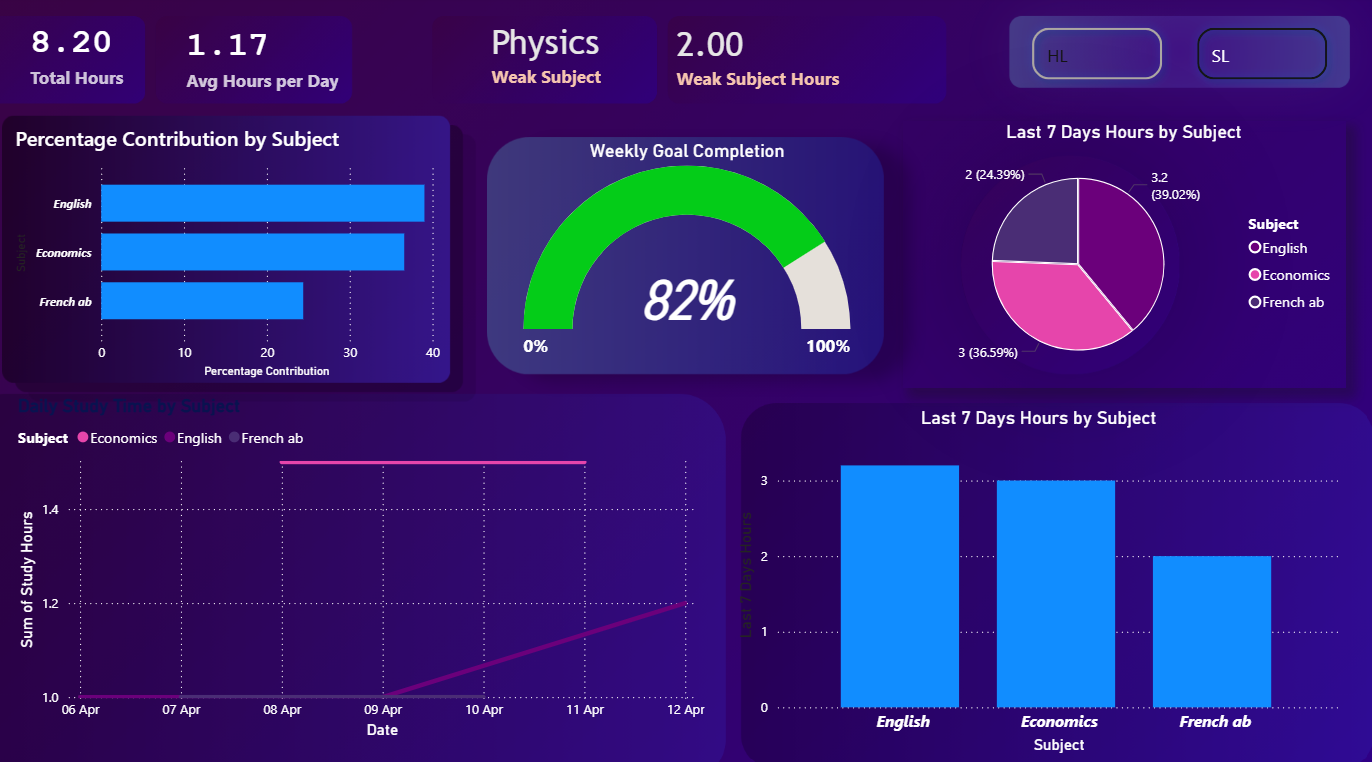

The dashboard page shown, as its layout file describes it:
{"tool":"powerbi","page":{"name":"Page 1","canvas":[1280,720],"ordinal":0},"visuals":[{"type":"lineChart","title":"Daily Study Time by Subject","fields":{"Y":["Sum(StudyData.Study Hours)"],"Series":["StudyData.Subject"],"Category":["StudyData.Date"]},"box":[12.5,371.2,648.8,325],"z":0},{"type":"pieChart","fields":{"Category":["StudyData.Subject"],"Y":["StudyData.Last 7 Days Hours"]},"box":[840.7,116.3,411.6,247.7],"z":1000},{"type":"advancedSlicerVisual","fields":{"Values":["StudyData.Level"]},"box":[944.3,12.9,308.6,82.9],"z":2000},{"type":"cardVisual","title":"Total Hours","fields":{"Data":["StudyData.Total Hours"]},"box":[0,3.8,160,105],"z":3000},{"type":"cardVisual","fields":{"Data":["StudyData.Avg Hours per Day"]},"box":[145.3,7,201.2,103.5],"z":4000},{"type":"gauge","title":"Weekly Goal Completion","fields":{"Y":["StudyData.Goal %"]},"box":[474.3,134.3,331.4,212.9],"z":5000},{"type":"cardVisual","fields":{"Data":["StudyData.Weak Subject"]},"box":[429.1,0,201.2,109.3],"z":6000},{"type":"cardVisual","fields":{"Data":["StudyData.Weak Subject Hours"]},"box":[601.2,5.8,305.8,100],"z":7000},{"type":"clusteredBarChart","fields":{"Category":["StudyData.Subject"],"Y":["StudyData.Percentage Contribution"]},"box":[11,120,405,240],"z":8000},{"type":"clusteredColumnChart","fields":{"Category":["StudyData.Subject"],"Y":["StudyData.Last 7 Days Hours"]},"box":[681.4,382.9,571.4,327.1],"z":9000}]}

Visuals, with their boxes in screenshot pixels (x1, y1, x2, y2), scaled from the page's 1280x720 canvas onto the 1372x762 screenshot:
"Daily Study Time by Subject" lineChart: Rect(13, 393, 709, 737)
pieChart - StudyData.Subject x StudyData.Last 7 Days Hours: Rect(901, 123, 1342, 385)
advancedSlicerVisual - StudyData.Level: Rect(1012, 14, 1343, 101)
"Total Hours" cardVisual: Rect(0, 4, 172, 115)
cardVisual - StudyData.Avg Hours per Day: Rect(156, 7, 371, 117)
"Weekly Goal Completion" gauge: Rect(508, 142, 864, 367)
cardVisual - StudyData.Weak Subject: Rect(460, 0, 676, 116)
cardVisual - StudyData.Weak Subject Hours: Rect(644, 6, 972, 112)
clusteredBarChart - StudyData.Subject x StudyData.Percentage Contribution: Rect(12, 127, 446, 381)
clusteredColumnChart - StudyData.Subject x StudyData.Last 7 Days Hours: Rect(730, 405, 1343, 751)
